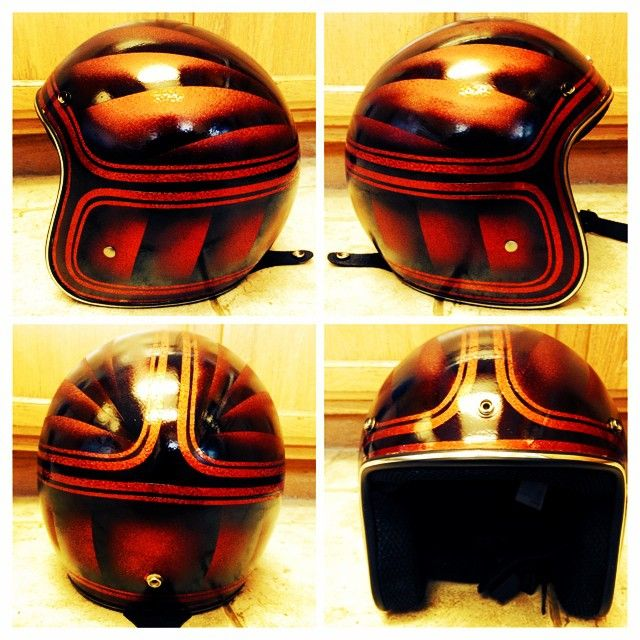with_helmet: (22, 19, 307, 301), (356, 329, 629, 619), (337, 20, 604, 310), (40, 335, 289, 606)
